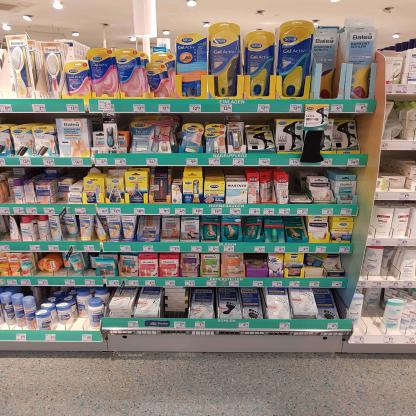Void: (382, 154, 405, 178), (366, 295, 379, 335), (286, 172, 304, 193), (72, 318, 84, 331)
